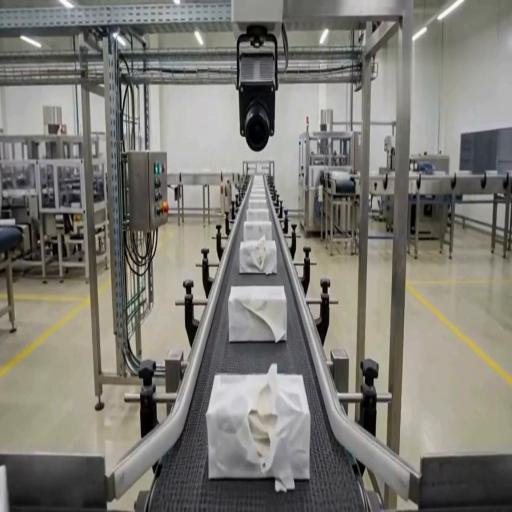defective: (207, 370, 282, 479), (240, 288, 286, 343), (239, 238, 276, 274)
good: (243, 220, 272, 242), (245, 204, 271, 226)
